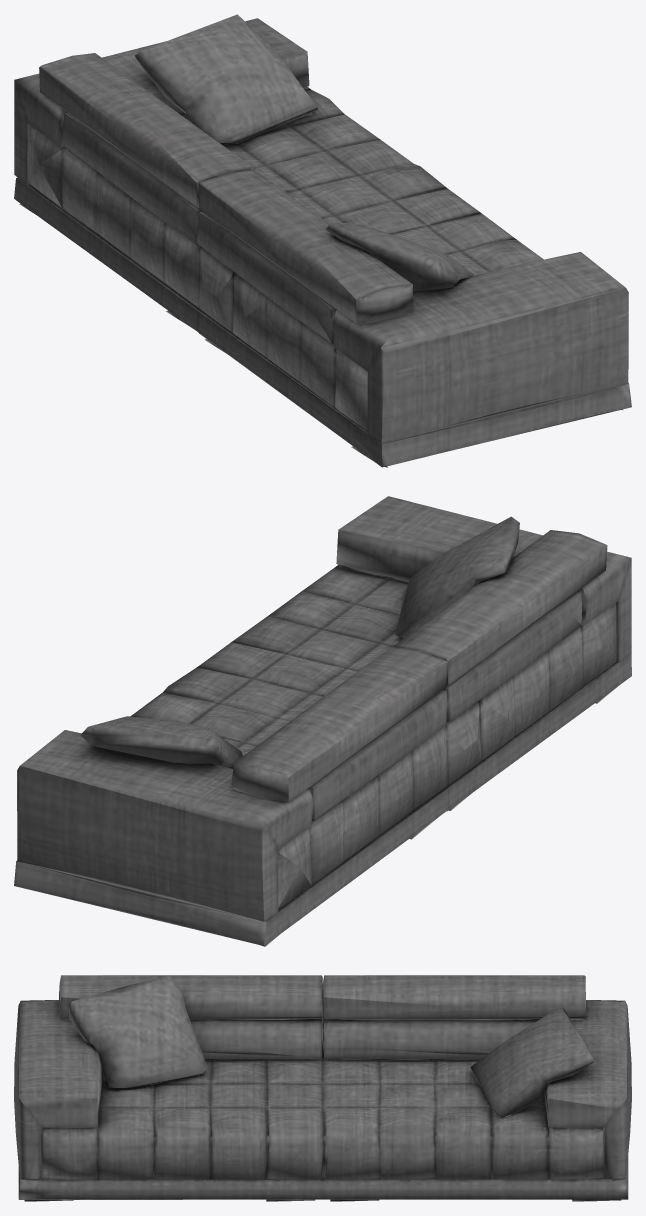
The model's file is M_Sofa0007.obj.
3 views of the same model, one above another, from view 1: azimuth 30°, elevation 25°; view 2: azimuth 150°, elevation 25°; view 3: azimuth 270°, elevation 25° (orthographic). The views are drawn at different scales.
Bounding box in the file's own units: 0.994 × 0.622 × 2.43.
Materials: 1 (1 with a texture image).
